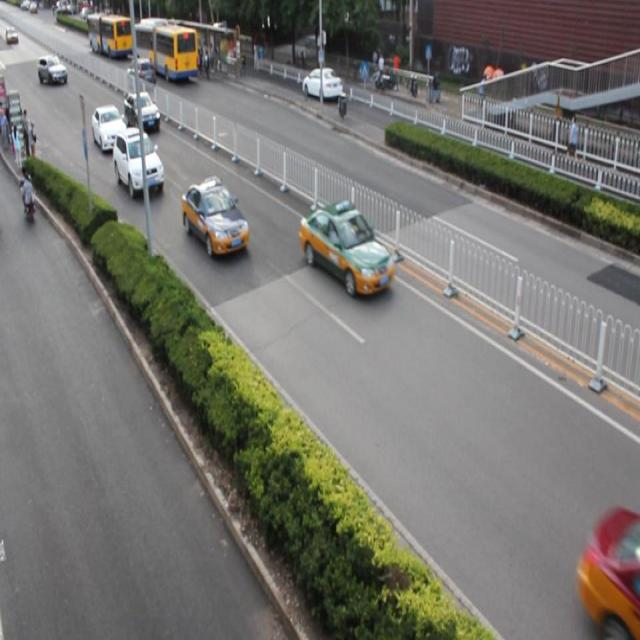car: (299, 198, 393, 300), (578, 507, 640, 640), (181, 176, 250, 258), (114, 130, 166, 198), (92, 105, 127, 156), (124, 91, 160, 133), (302, 65, 342, 101), (127, 57, 156, 95)
van: (133, 18, 198, 82)
